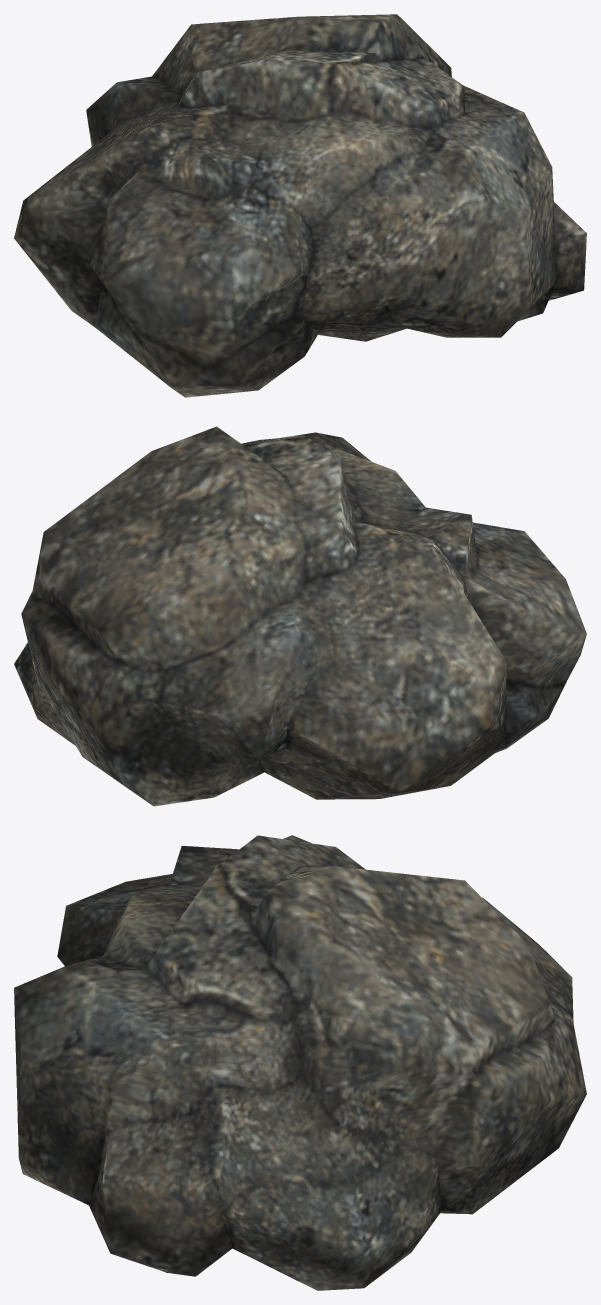
The model's file is SC_yonghengsenlin_shitou13.FBX.
3 renders of one model, top to bottom at view 1: azimuth 30°, elevation 25°; view 2: azimuth 150°, elevation 25°; view 3: azimuth 270°, elevation 25°, orthographic. The views are drawn at different scales.
Visible parts, largest first — view 1: SC_yonghengsenlin_shitou13; view 2: SC_yonghengsenlin_shitou13; view 3: SC_yonghengsenlin_shitou13.
Part boxes in pixels (x1,y1,x2,y2): SC_yonghengsenlin_shitou13: (14, 14, 586, 397); SC_yonghengsenlin_shitou13: (14, 426, 586, 806); SC_yonghengsenlin_shitou13: (14, 835, 586, 1290).
Size of the model in its own units: 1051 by 603 by 960.
